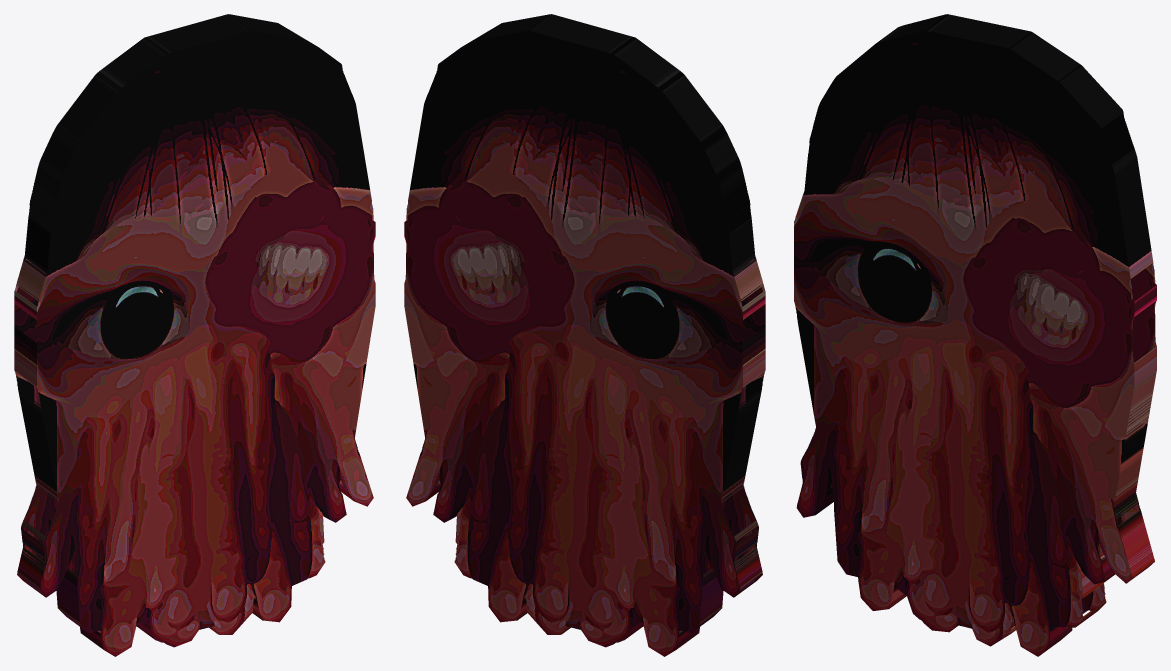
The model's file is Enemy2Face.fbx.
3 views of the same model, side by side, from view 1: azimuth 30°, elevation 25°; view 2: azimuth 150°, elevation 25°; view 3: azimuth 330°, elevation 25° (orthographic).
Visible parts, largest first — view 1: Enemy2Face; view 2: Enemy2Face; view 3: Enemy2Face.
Part boxes in pixels (x1,y1,x2,y2): Enemy2Face: (14, 14, 375, 656); Enemy2Face: (404, 14, 765, 656); Enemy2Face: (794, 14, 1156, 656).
Bounding box in the file's own units: 87.01 × 147 × 10.
Materials: 1 (1 with a texture image).
